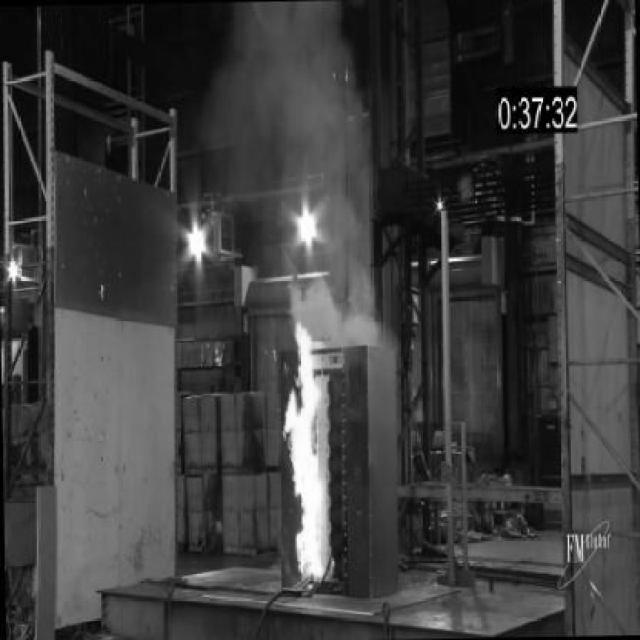fire: (194, 0, 380, 262), (288, 272, 382, 348)
smoke: (276, 317, 341, 583)
